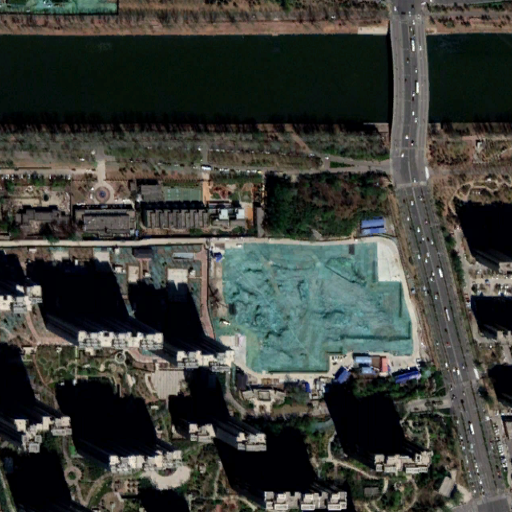cw: (208, 242, 415, 373)
